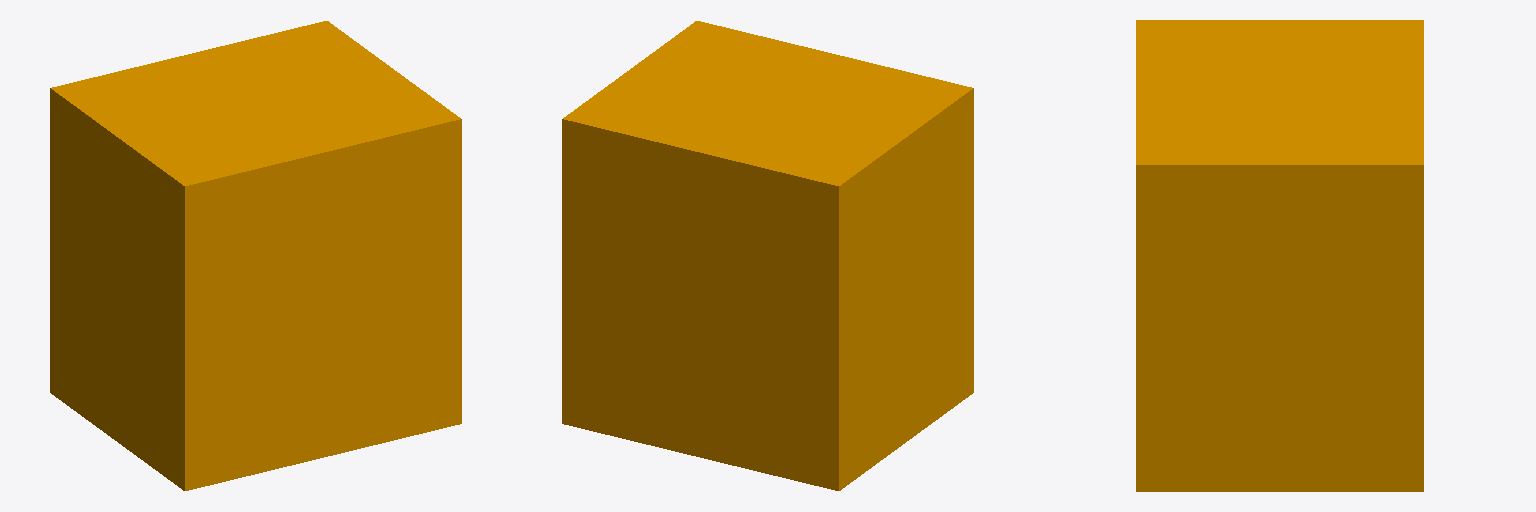
The robot description file, URDF, robot "object":
<robot name="object">
  <link name="object">
    <visual>
      <origin xyz="0 0 0" />
      <geometry>
        <box size="0.07600000000000001 0.064 0.08" />
      </geometry>
    </visual>

    <collision>
      <origin xyz="0 0 0" />
      <geometry>
        <box size="0.07600000000000001 0.064 0.08" />
      </geometry>
    </collision>

    <inertial>
      <mass value="0.05" />
      <inertia ixx="0.0001" ixy="0.0" ixz="0.0" iyy="0.0001" iyz="0.0" izz="0.0001" />
    </inertial>
  </link>
</robot>

--- Facts derived from the render (not from the file) ---
Views: 3 orthographic renders of the robot side by side, from view 1: azimuth 30°, elevation 25°; view 2: azimuth 150°, elevation 25°; view 3: azimuth 270°, elevation 25°.
Robot: object — 1 links, 0 joints (none); root link object; default pose: all joints at 0.
Visible links, largest first — view 1: object; view 2: object; view 3: object.
Boxes of the visible links, <box> form: object: <box>50,21,461,490</box>; object: <box>562,21,973,490</box>; object: <box>1136,20,1423,491</box>.
Size in the robot's own frame: 0.076 by 0.064 by 0.08 metres.
Geometry: primitives only (box / cylinder / sphere), no mesh files.